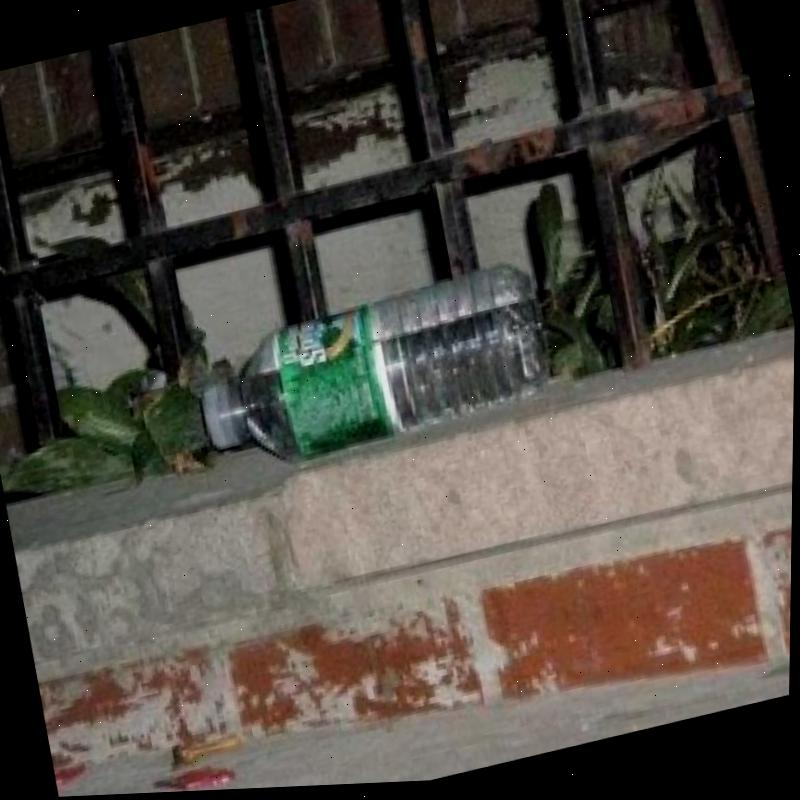botella: (181, 258, 554, 482)
